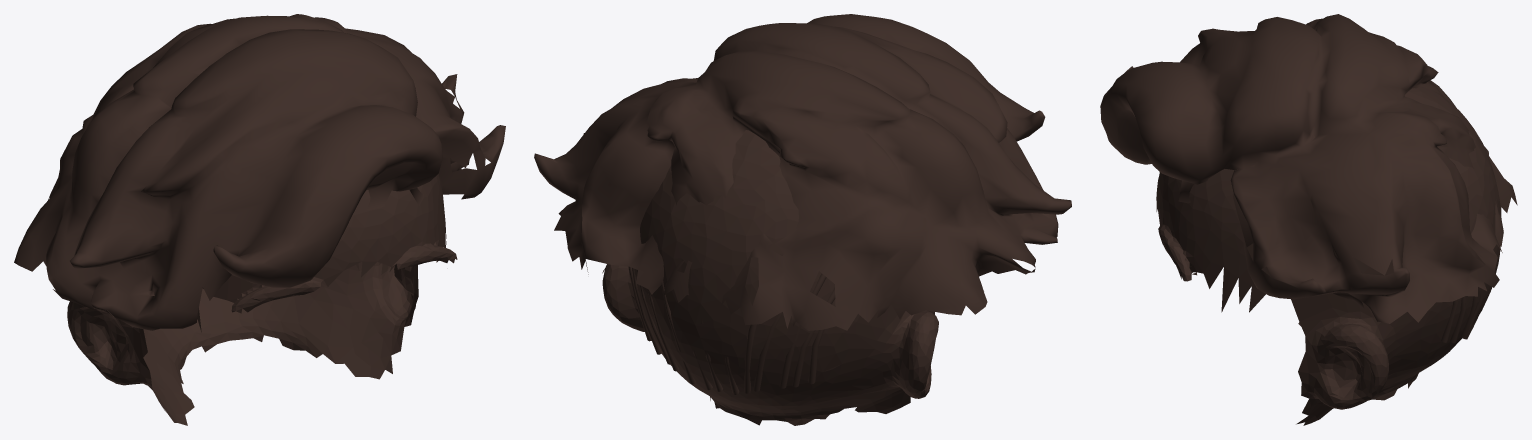
Rendered from waves.glb.
The picture shows the model from 3 angles, left to right: view 1: azimuth 30°, elevation 25°; view 2: azimuth 150°, elevation 25°; view 3: azimuth 270°, elevation 25°; orthographic projection. The views are drawn at different scales.
Visible parts, largest first — view 1: Hair, HairScalp; view 2: Hair, HairScalp, HairPulledRootStrands; view 3: Hair, HairScalp, HairPulledRootStrands.
Part boxes in pixels (x1,y1,x2,y2): Hair: [14, 14, 505, 330]; HairScalp: [67, 174, 457, 425]; Hair: [534, 14, 1071, 330]; HairScalp: [602, 130, 938, 425]; HairPulledRootStrands: [628, 266, 835, 394]; Hair: [1100, 14, 1517, 323]; HairScalp: [1156, 86, 1501, 425]; HairPulledRootStrands: [1441, 247, 1500, 343].
Size of the model in its own units: 0.6538 by 0.4881 by 0.5341.
